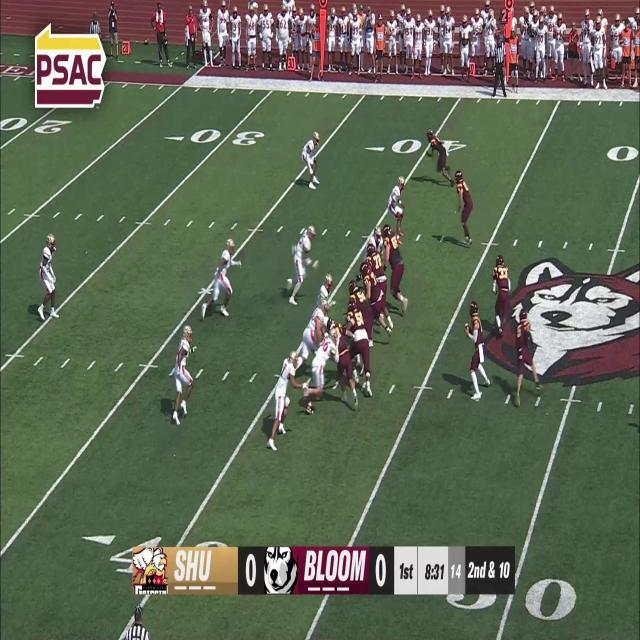football: (464, 321, 469, 334)
